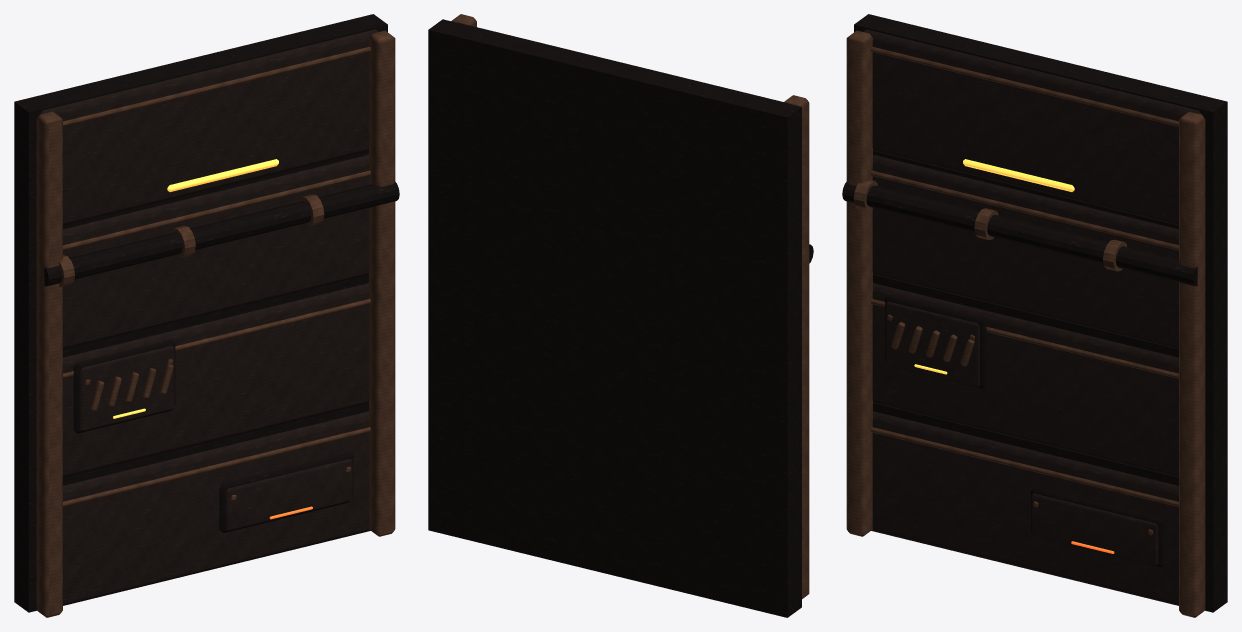
Rendered from bulkhead.glb.
3 views of the same model, side by side, from view 1: azimuth 30°, elevation 25°; view 2: azimuth 150°, elevation 25°; view 3: azimuth 330°, elevation 25° (orthographic).
Parts seen in each view (by area): view 1: bulkhead - Heat-treated steel, bulkhead - Burnished nickel, bulkhead - Cast iron, bulkhead - Molten amber; view 2: bulkhead - Cast iron, bulkhead - Burnished nickel; view 3: bulkhead - Heat-treated steel, bulkhead - Burnished nickel, bulkhead - Cast iron, bulkhead - Molten amber.
Part boxes in pixels (x1=…): bulkhead - Heat-treated steel: x1=37, y1=29, x2=378, y2=605; bulkhead - Burnished nickel: x1=36, y1=30, x2=395, y2=617; bulkhead - Cast iron: x1=14, y1=14, x2=399, y2=612; bulkhead - Molten amber: x1=113, y1=159, x2=278, y2=418; bulkhead - Cast iron: x1=428, y1=19, x2=813, y2=617; bulkhead - Burnished nickel: x1=451, y1=14, x2=809, y2=598; bulkhead - Heat-treated steel: x1=863, y1=29, x2=1204, y2=605; bulkhead - Burnished nickel: x1=846, y1=30, x2=1205, y2=617; bulkhead - Cast iron: x1=842, y1=14, x2=1227, y2=612; bulkhead - Molten amber: x1=914, y1=159, x2=1074, y2=374.
Size of the model in its own units: 6.01 by 8.01 by 0.94.
5 materials, 3 textured.
